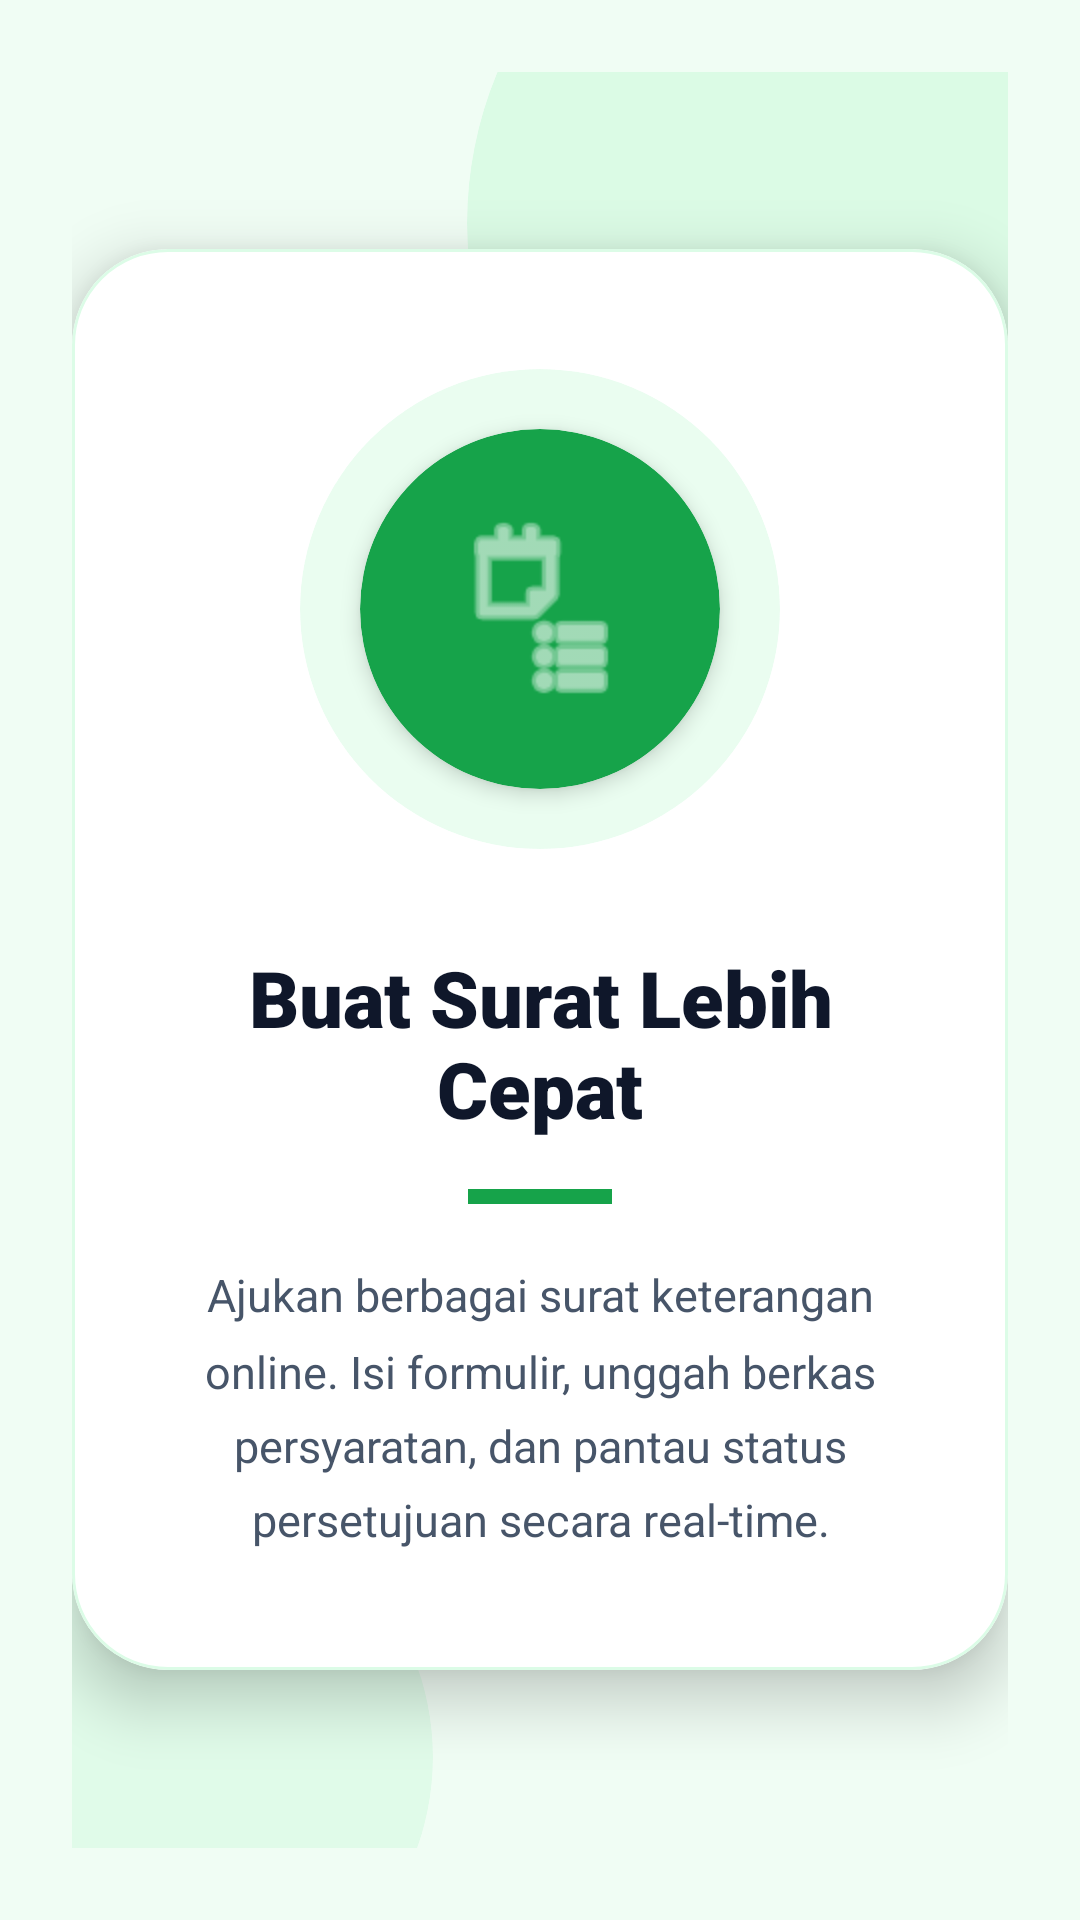

Screen size 1080px x 1920px. Icon name, then its box in pixels as (x1, y1, x2, y2):
Ilustrasi Pengajuan Surat: (474, 522, 608, 693)
